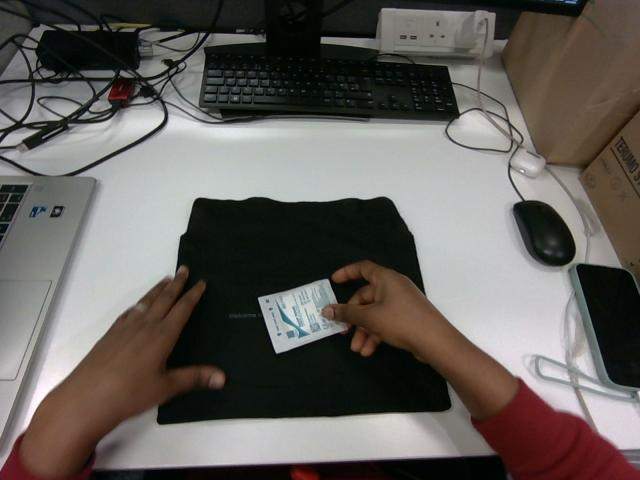gauze: (258, 279, 347, 353)
